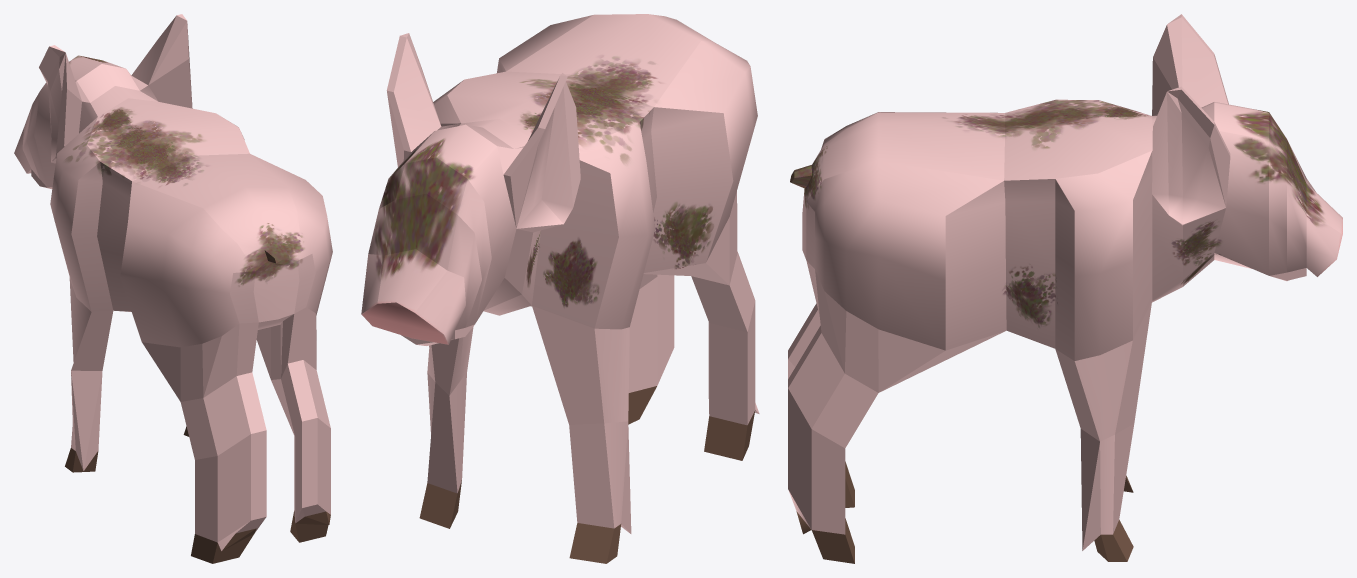
File: NPCPiglet_1.fbx
3 renders of one model, left to right at view 1: azimuth 30°, elevation 25°; view 2: azimuth 150°, elevation 25°; view 3: azimuth 270°, elevation 25°, orthographic. The views are drawn at different scales.
Parts seen in each view (by area): view 1: Baby_pig_NPC_1; view 2: Baby_pig_NPC_1; view 3: Baby_pig_NPC_1.
Boxes of the visible parts, x1,y1,x2,y2 form: Baby_pig_NPC_1: (14, 14, 332, 563); Baby_pig_NPC_1: (361, 14, 759, 563); Baby_pig_NPC_1: (788, 14, 1342, 563).
Bounding box in the file's own units: 14.68 × 29.58 × 31.29.
Materials: 1 (1 with a texture image).
